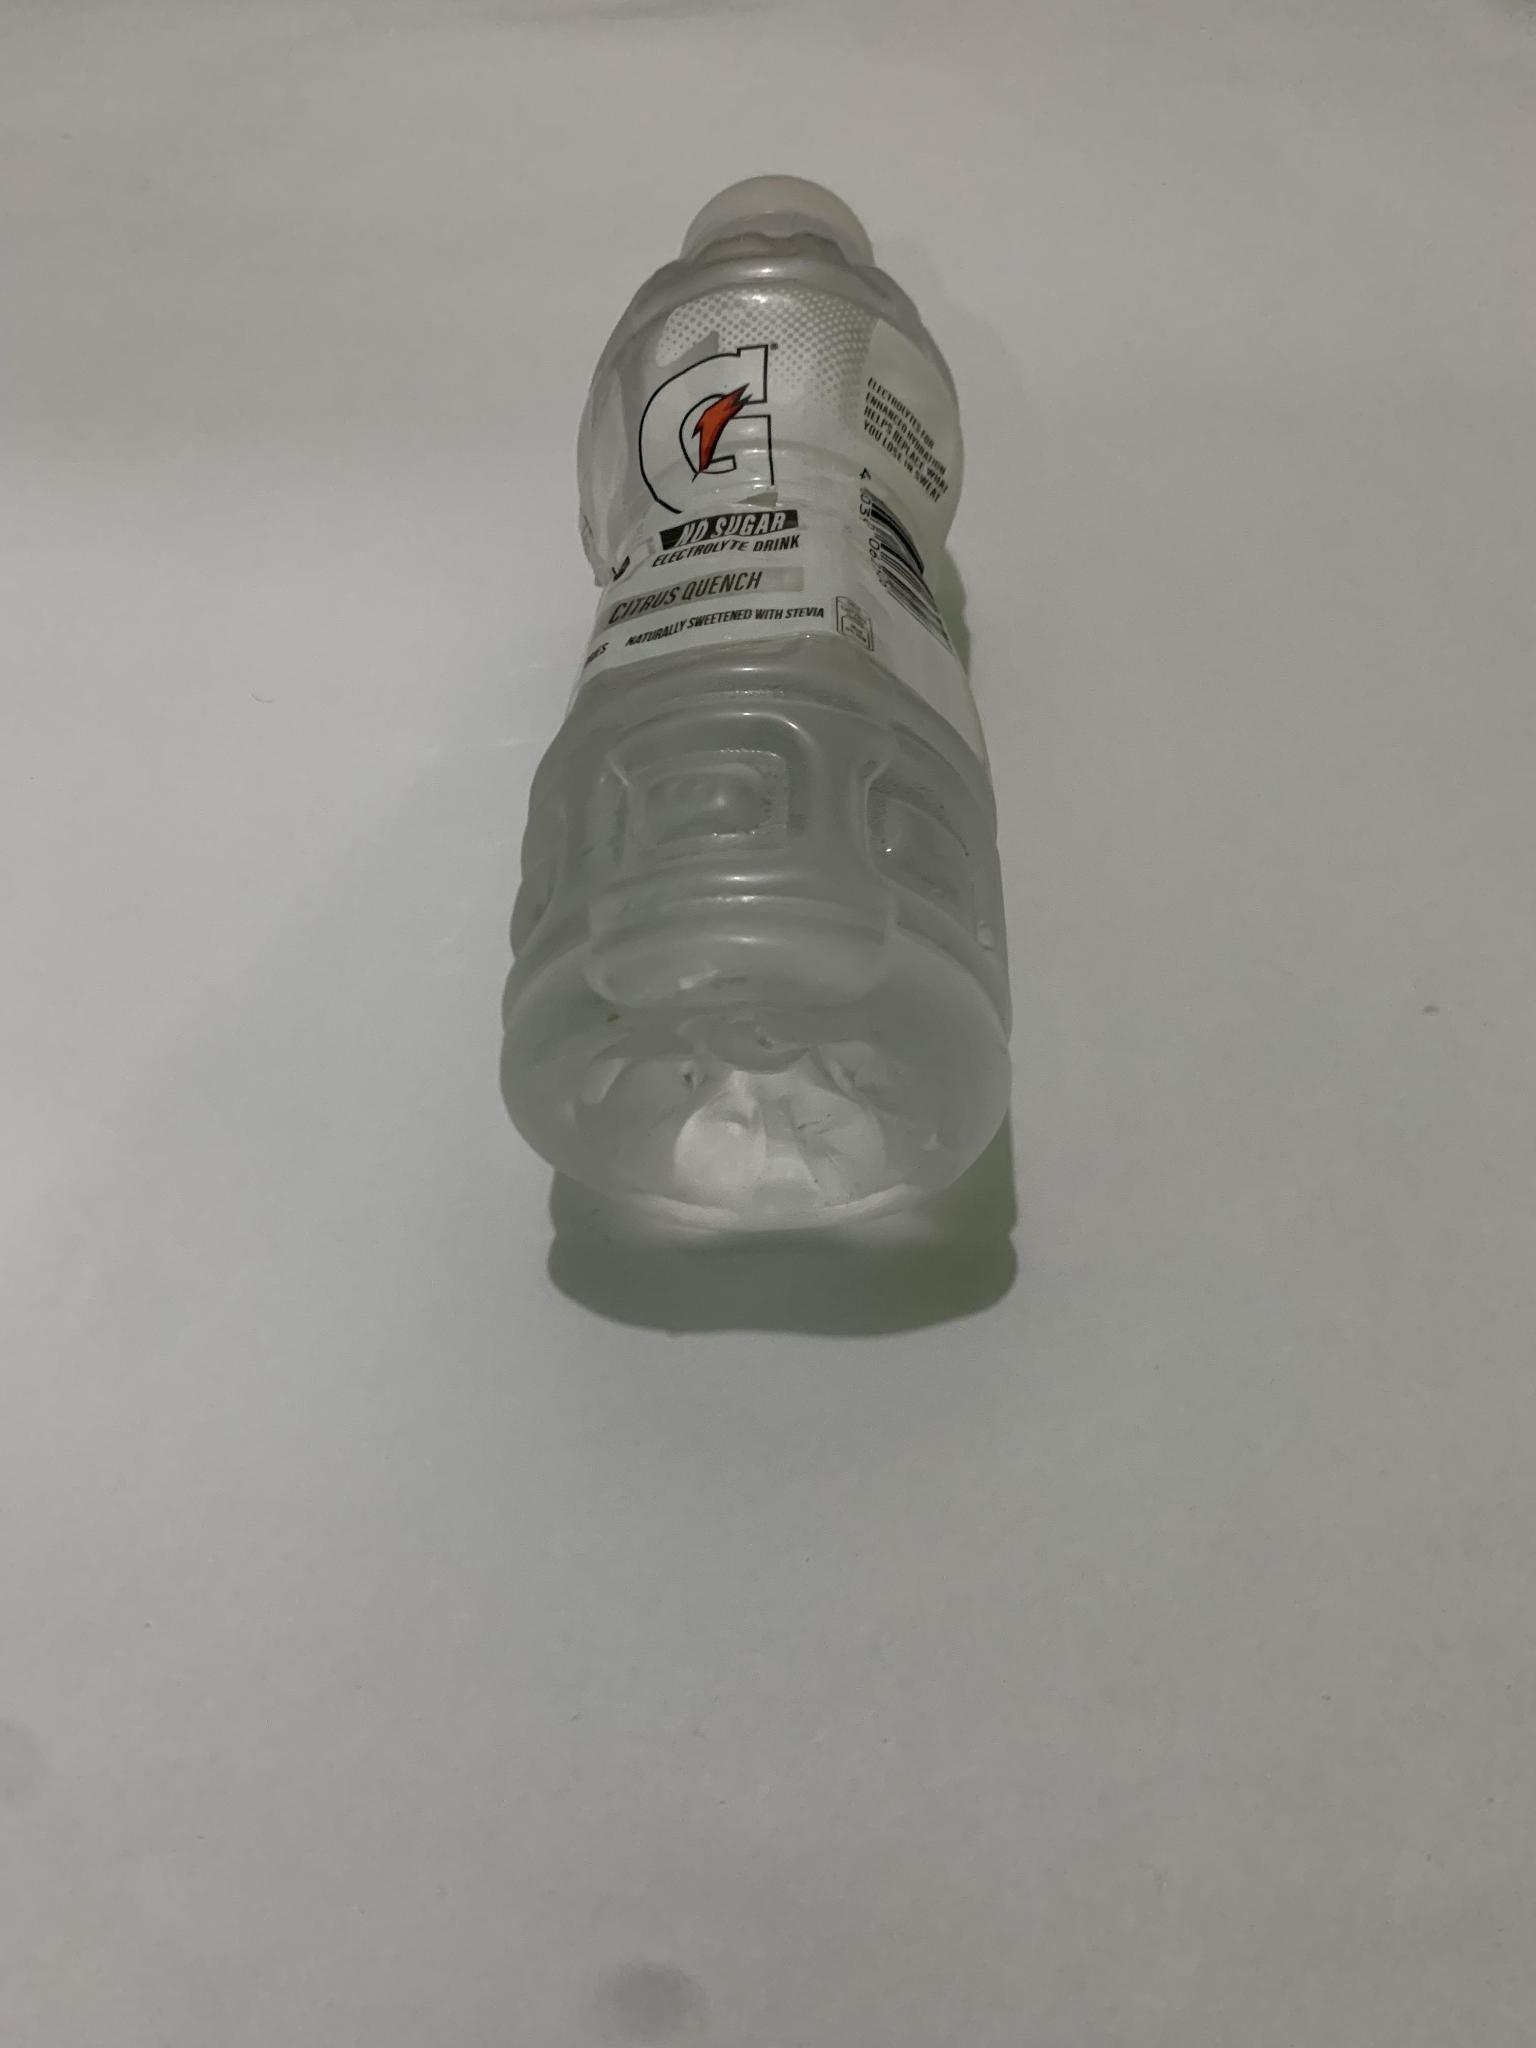bottle: (482, 169, 1041, 1253)
